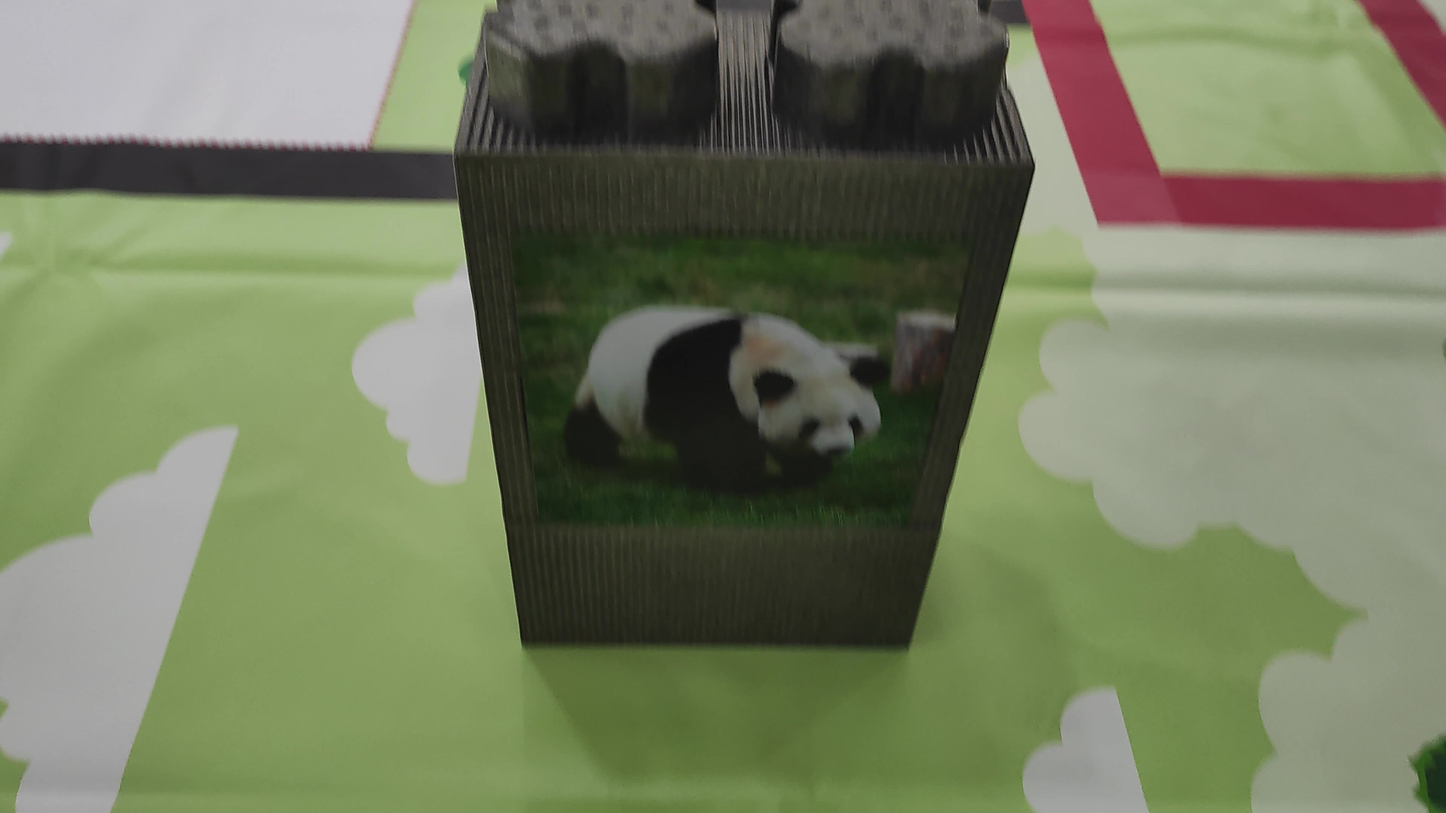panda: (559, 271, 891, 540)
